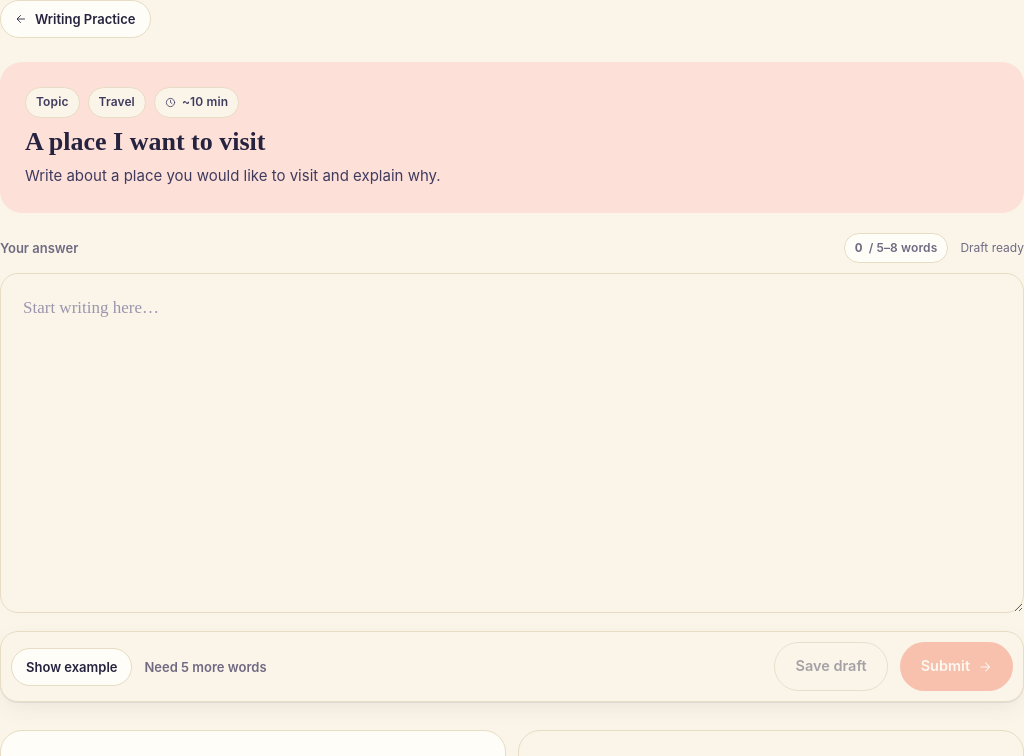
Test: TaskRoute › shows a recovery message when writing submit fails
The image size is (1024, 756).
Type "one two three four five" into the text box with placeholder "Start writing here…" at (512, 443), box [0, 273, 1023, 613]
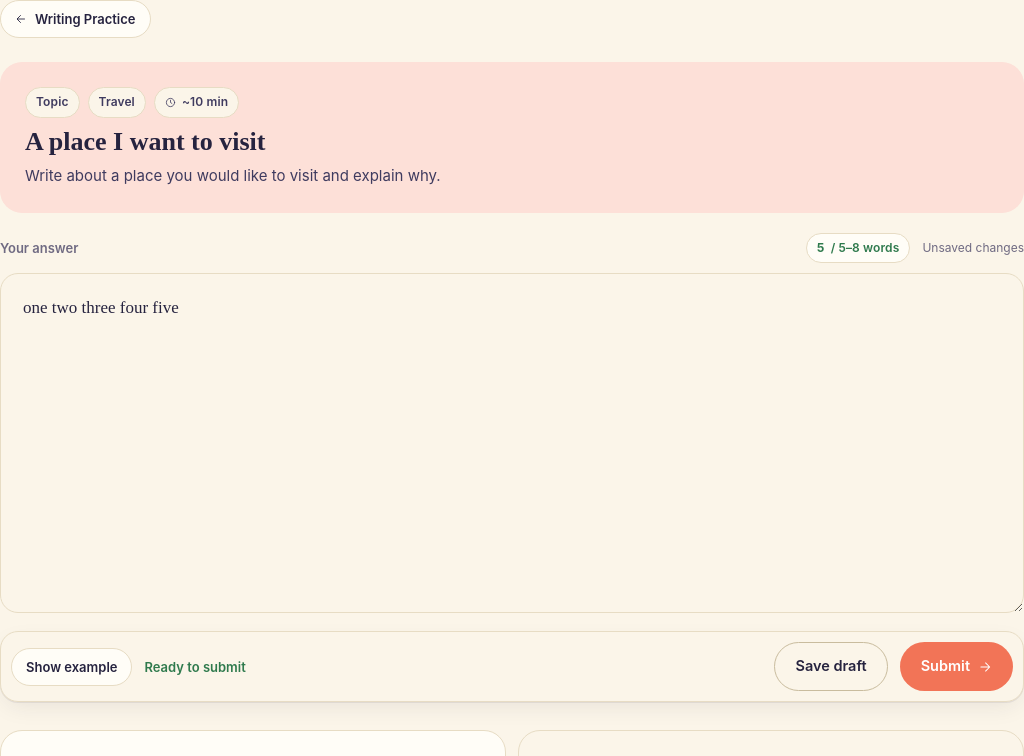
Click the button "Submit" at (956, 667), box [900, 642, 1013, 691]
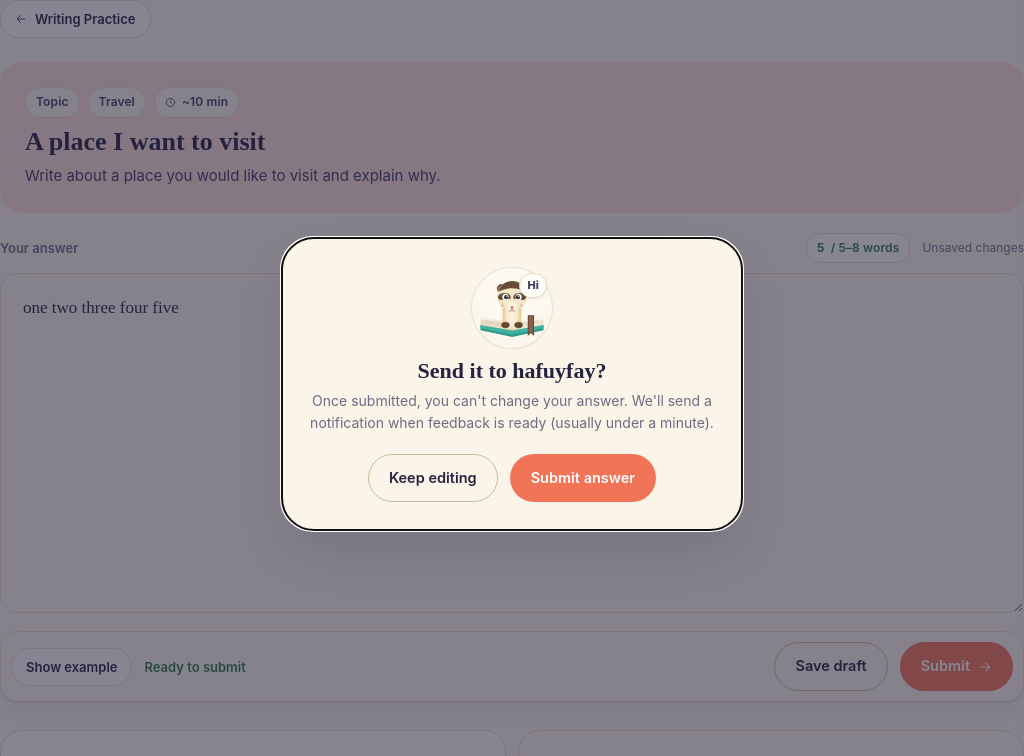
Click the button "Submit answer" at (583, 478), box [510, 454, 656, 502]
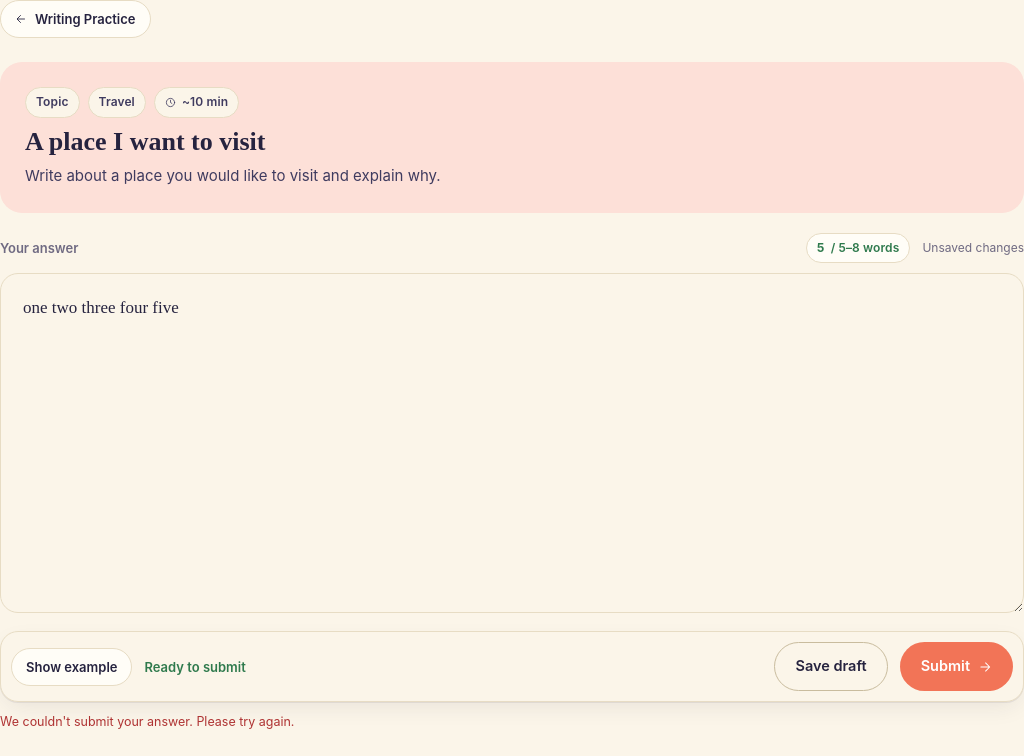
Check: the text "We couldn't submit your answer. Please try again." is shown, box [0, 714, 294, 729]
